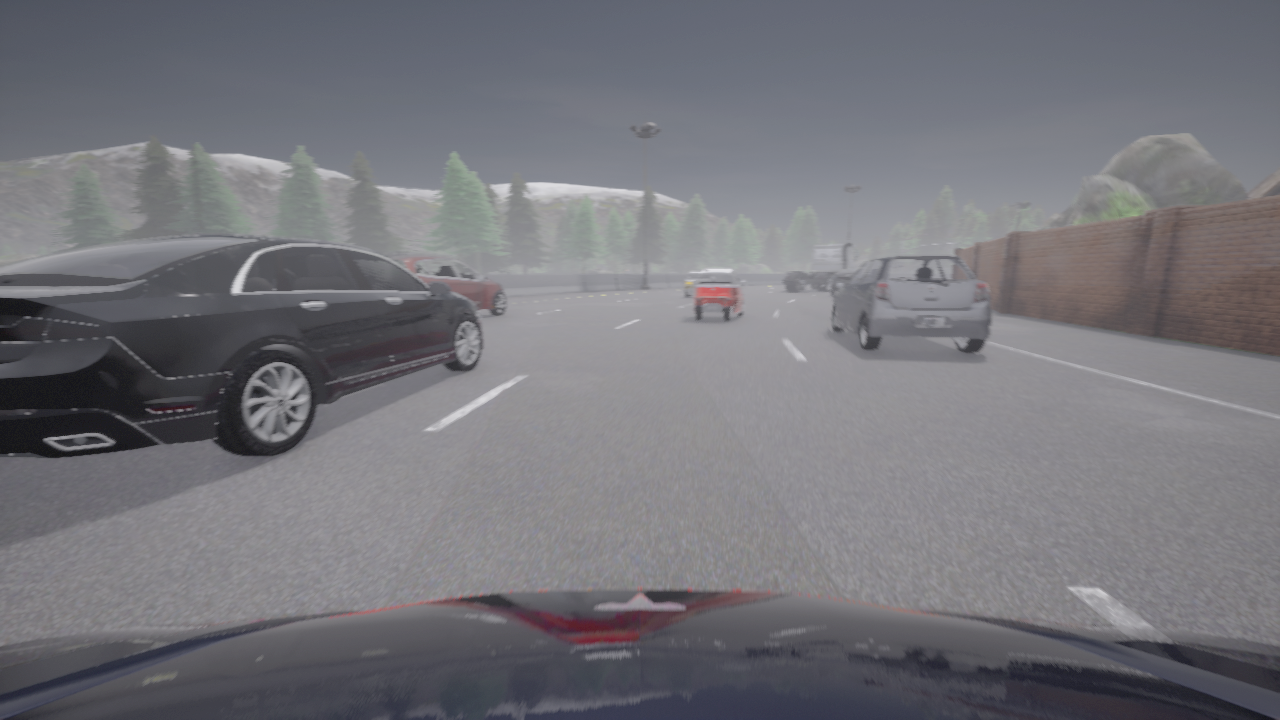cyclist: (0, 588, 1279, 719), (0, 233, 483, 458), (831, 255, 990, 352), (384, 254, 506, 315), (783, 242, 859, 291), (693, 267, 745, 321), (829, 268, 858, 295), (684, 270, 701, 297)
